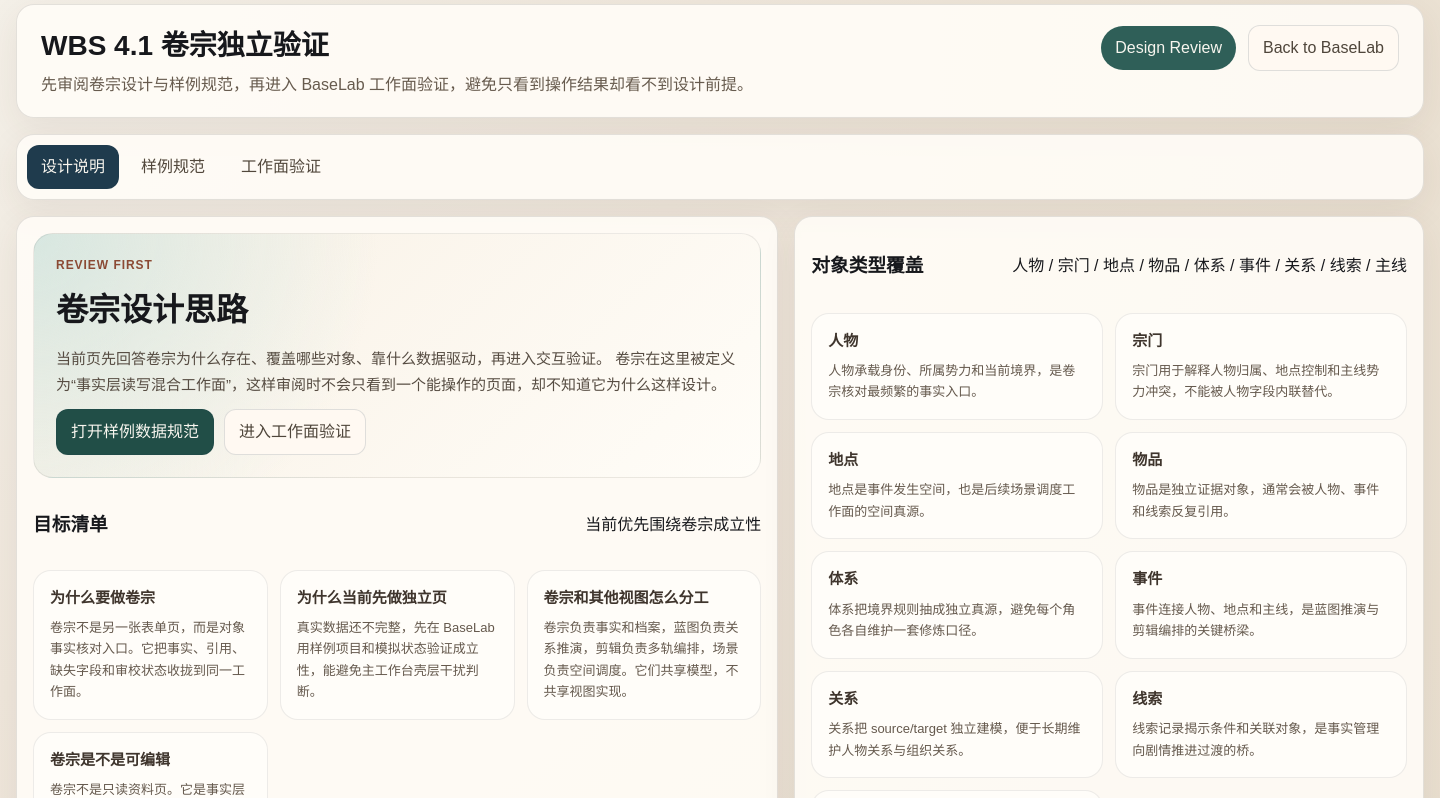
Test: DossierAbilityLab › shows sample schema guidance with object and view source examples
Step 1. Click the tab "样例规范" → point(173, 167), box [127, 145, 219, 189]
(page scrolled)
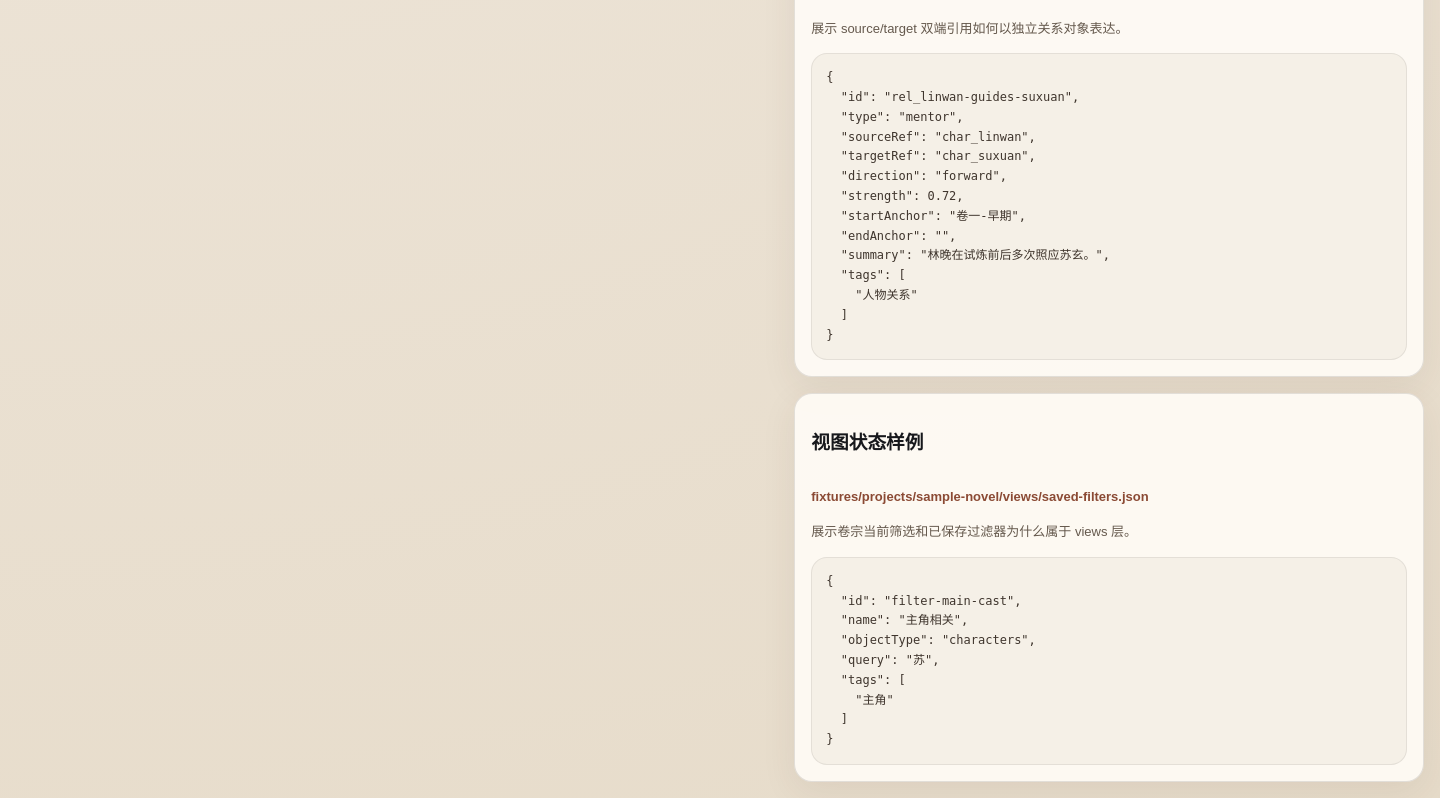
Result: the text "fixtures/projects/sample-novel/views/saved-filters.json" is shown at [811, 489, 1149, 504]
